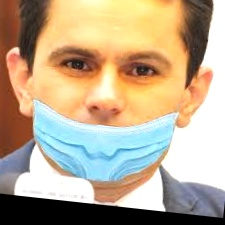mask_weared_incorrect: (34, 1, 181, 184)
